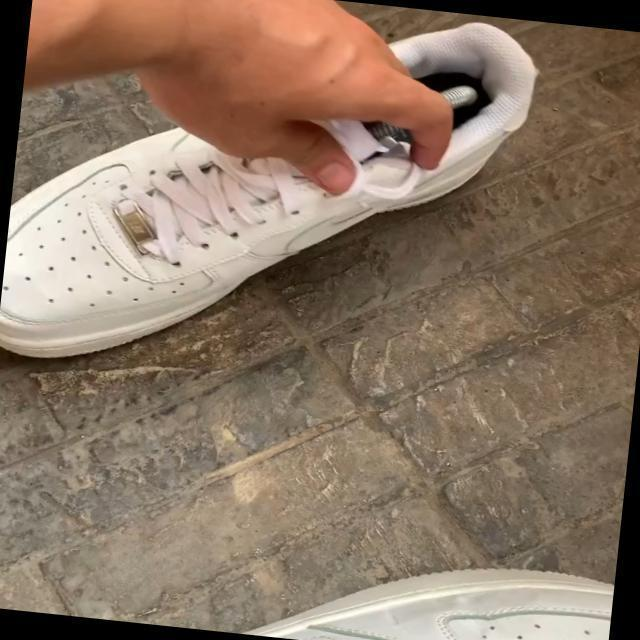nike fake air force: (0, 0, 545, 408)
